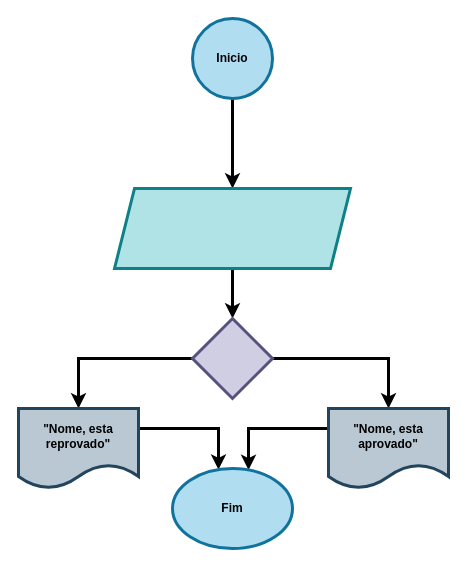
This 467x567 diagram has some shape labels left out. The shapes that lost their labels are listed below. From the top down, each one's centre as x and y in pixels, then its label:
At point 232,228: "Nome, nota1b, nota2b, nota12b, nota22b, nota13b, nota23b, nota14b, nota24b".
At point 232,358: "media<7".
